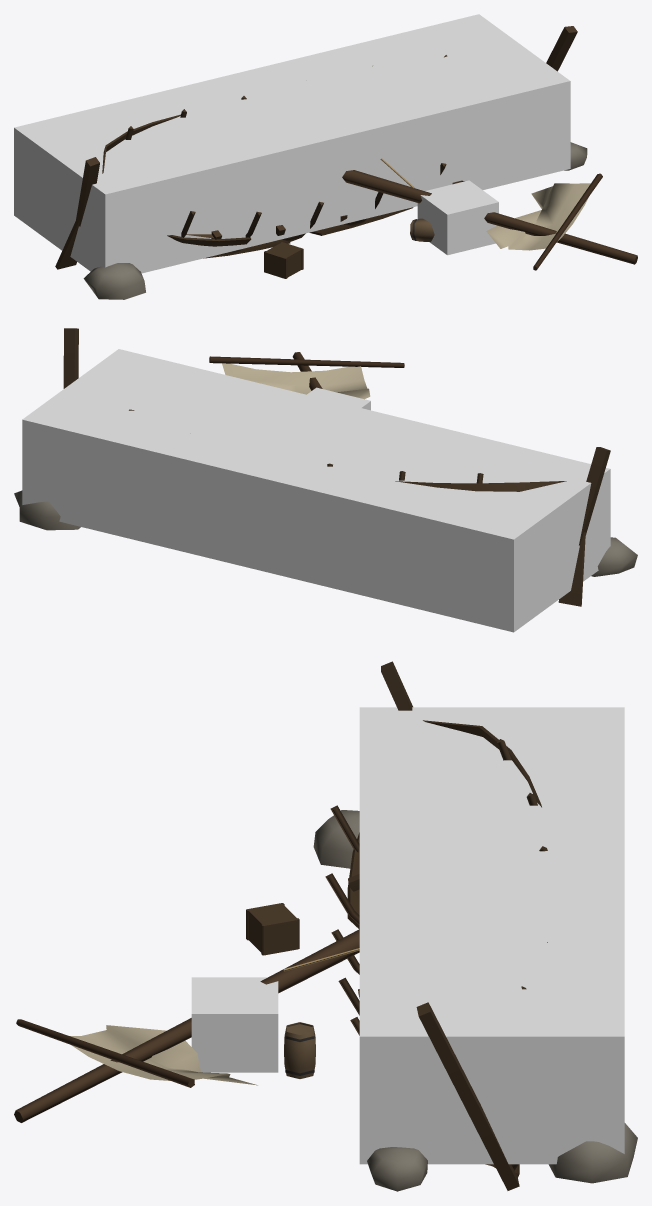
The model's file is shipwreck.glb.
3 renders of one model, top to bottom at view 1: azimuth 30°, elevation 25°; view 2: azimuth 150°, elevation 25°; view 3: azimuth 270°, elevation 25°, orthographic. The views are drawn at different scales.
Visible parts, largest first — view 1: COL_hull, shipwreck, COL_mast; view 2: COL_hull, shipwreck, COL_mast; view 3: COL_hull, shipwreck, COL_mast.
Part boxes in pixels (x1,y1,x2,y2): COL_hull: [14, 14, 570, 273]; shipwreck: [55, 26, 637, 299]; COL_mast: [417, 180, 498, 255]; COL_hull: [22, 349, 610, 632]; shipwreck: [14, 328, 637, 606]; COL_mast: [307, 387, 370, 410]; COL_hull: [359, 707, 624, 1164]; shipwreck: [14, 661, 637, 1191]; COL_mast: [191, 977, 278, 1072].
Size of the model in its own units: 15.87 by 4.56 by 11.53.
